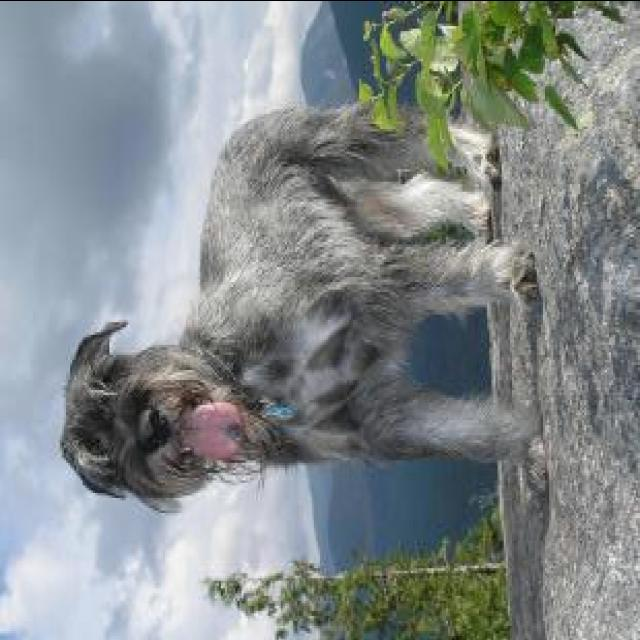standard_schnauzer: (56, 96, 552, 510)
